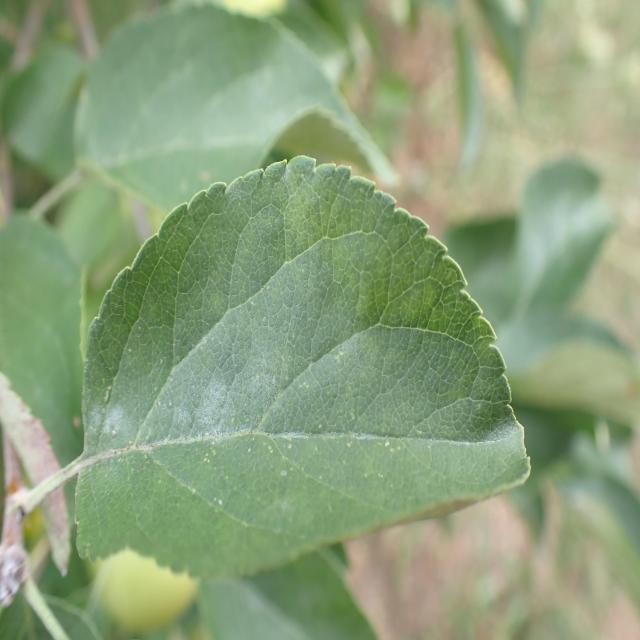Powdery_mildew: (78, 164, 534, 558)
